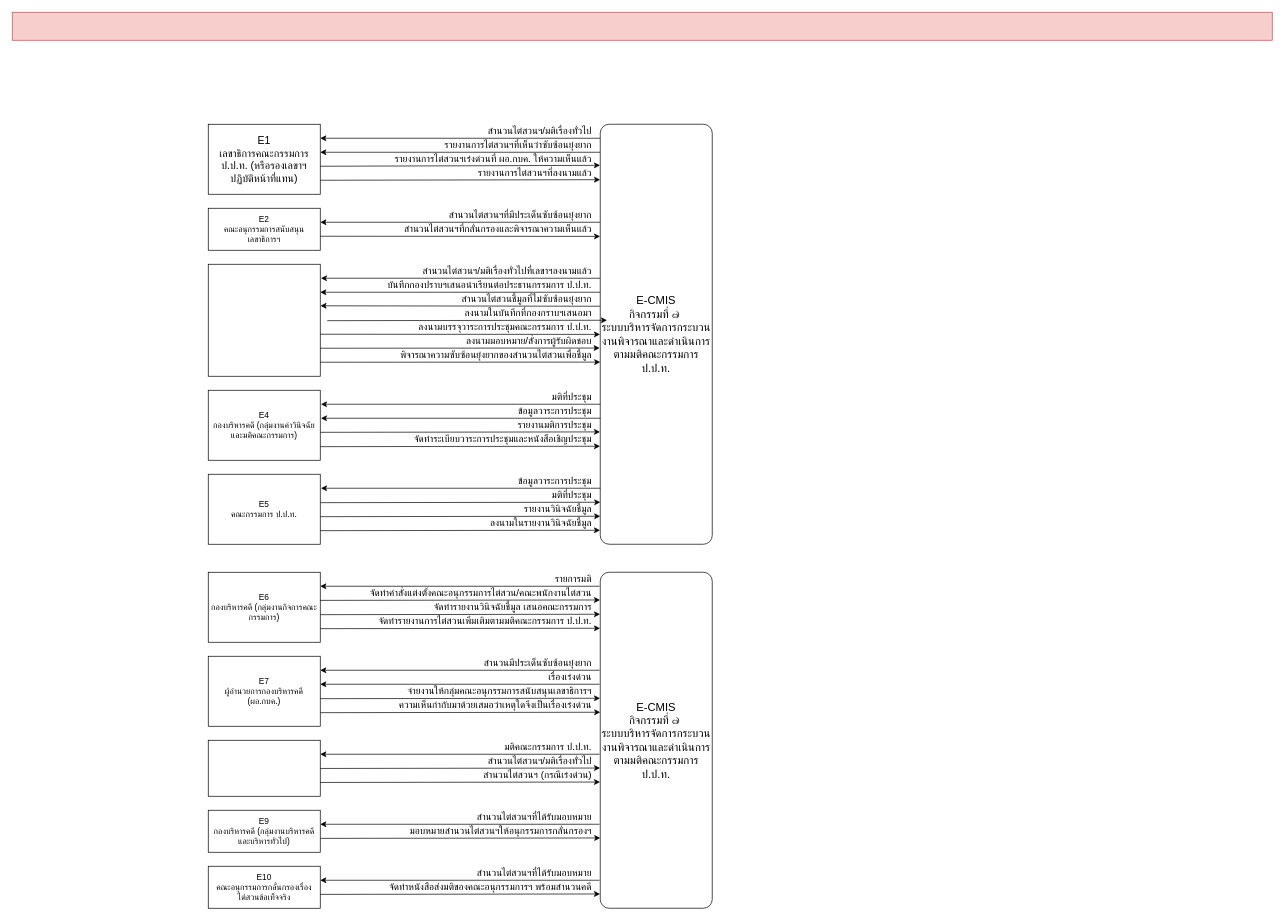
The diagram is 1285 pixels wide and 921 high, and some of its shapes have lost their labels. Here are the shapes that lost their labels. From the top down, the centre of each, then its label:
At [642,26]: "DFD LEVEL 0".
At [264,320]: "E3 ประธานกรรมการ ป.ป.ท.".
At [264,768]: "E8 หน่วยงานต้นเรื่อง/เจ้าของเรื่อง".
